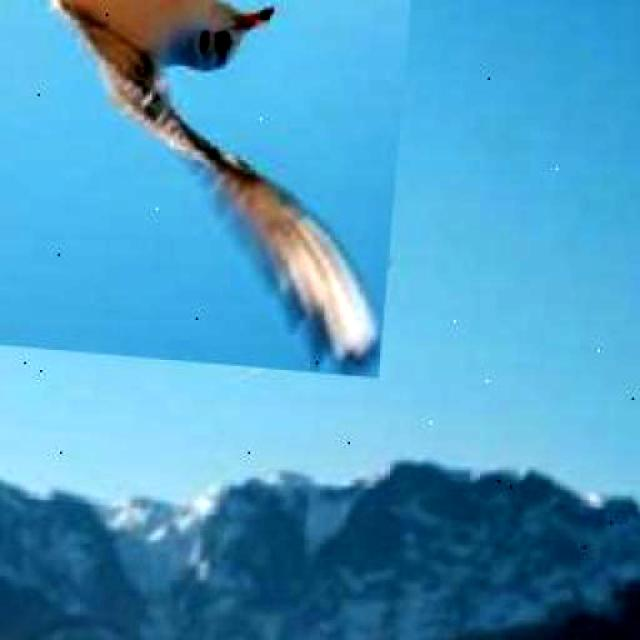airplane: (0, 0, 428, 376)
